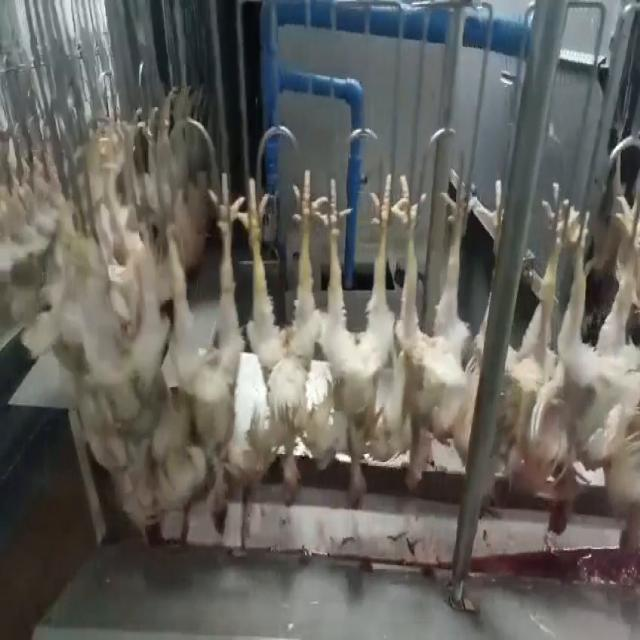chicken: (504, 183, 602, 539), (314, 169, 404, 509), (155, 169, 237, 535), (236, 172, 317, 508), (391, 172, 473, 487), (105, 178, 161, 525), (605, 167, 639, 561)
